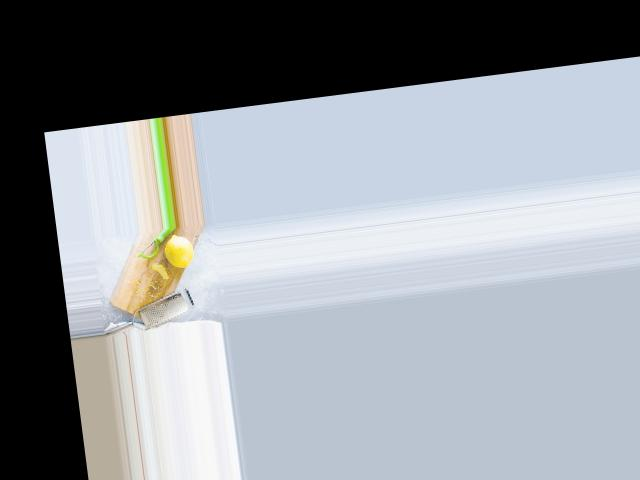lemon: (162, 232, 196, 269)
